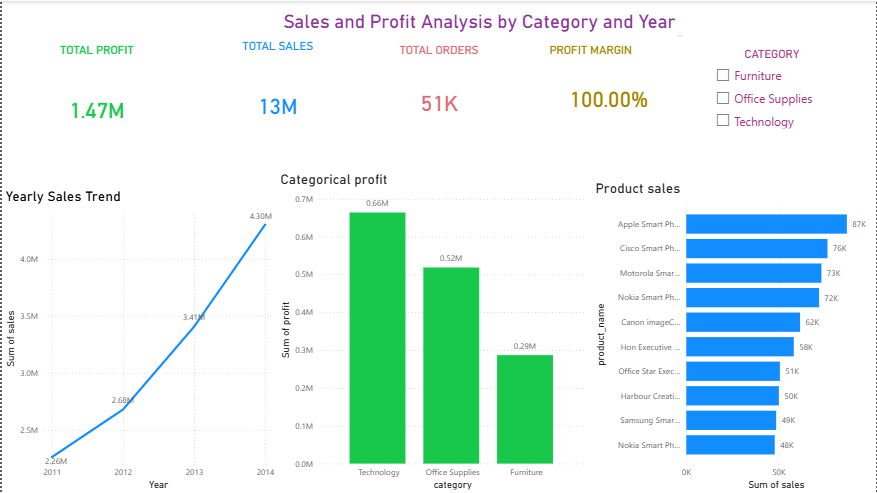

The page's visual inventory and layout, read from the dashboard file:
{"tool":"powerbi","page":{"name":"CATEGORY & YEAR","canvas":[1280,720],"ordinal":0},"visuals":[{"type":"card","title":"TOTAL PROFIT","fields":{"Values":["Sum(super store.profit)"]},"box":[38.6,62.2,201.6,173],"z":0},{"type":"card","title":"TOTAL SALES","fields":{"Values":["Sum(super store.sales)"]},"box":[304,55.4,198.2,174.7],"z":1000},{"type":"lineChart","title":"Yearly Sales Trend","fields":{"Y":["Sum(super store.sales)"],"Category":["super store.order_date.Variation.Date Hierarchy.Year"]},"box":[0,273.8,403.1,446.8],"z":2000},{"type":"clusteredColumnChart","title":"Categorical profit","fields":{"Y":["Sum(super store.profit)"],"Category":["super store.category"]},"box":[402.4,248.8,456.6,471.2],"z":3000},{"type":"barChart","title":"Product sales","fields":{"Category":["super store.product_name"],"Y":["Sum(super store.sales)"]},"box":[863.4,262,416.6,458.6],"z":4000},{"type":"slicer","title":"CATEGORY","fields":{"Values":["super store.category"]},"box":[1033.1,67.2,183.1,132.7],"z":5000},{"type":"textbox","title":"Sales and Profit Analysis by Category and Year","box":[406.8,13.2,594.1,42.4],"z":6000},{"type":"card","title":"TOTAL ORDERS","fields":{"Values":["super store.TOATL ORDERS"]},"box":[532.5,62.2,213.3,152.9],"z":7000},{"type":"card","title":"PROFIT MARGIN","fields":{"Values":["super store.PROFIT MARGIN"]},"box":[796.2,62.2,183.1,142.8],"z":8000}]}

Visuals, with their boxes in screenshot pixels (x1, y1, x2, y2), scaled from the page's 1280x720 canvas onto the 877x493 screenshot:
"TOTAL PROFIT" card: 26:43:165:161
"TOTAL SALES" card: 208:38:344:158
"Yearly Sales Trend" lineChart: 0:187:276:492
"Categorical profit" clusteredColumnChart: 276:170:589:492
"Product sales" barChart: 592:179:876:492
"CATEGORY" slicer: 708:46:833:137
"Sales and Profit Analysis by Category and Year" textbox: 279:9:686:38
"TOTAL ORDERS" card: 365:43:511:147
"PROFIT MARGIN" card: 546:43:671:140
